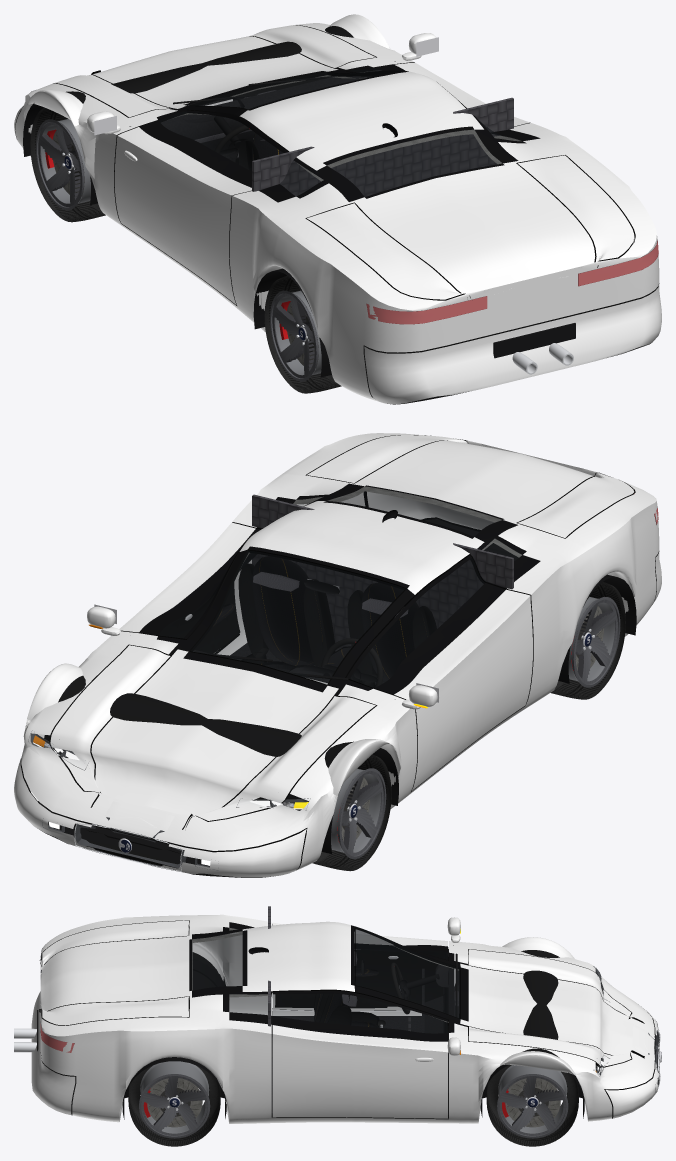
Rendered from supercar.glb.
3 renders of one model, top to bottom at view 1: azimuth 30°, elevation 25°; view 2: azimuth 150°, elevation 25°; view 3: azimuth 270°, elevation 25°, orthographic. The views are drawn at different scales.
Parts seen in each view (by area): view 1: chassis, door_lf_ok, bump_rear_ok, interior, boot_ok, wheel_lf, wheel_lb, bonnet_ok, windscreen_ok, door_rf_ok, steering_wheel; view 2: chassis, door_lf_ok, interior, windscreen_ok, bonnet_ok, door_rf_ok, bump_front_ok, boot_ok, wheel_lf, wheel_lb, bump_rear_ok, steering_wheel; view 3: chassis, door_rf_ok, wheel_rb, wheel_rf, door_lf_ok, windscreen_ok, boot_ok, interior, bonnet_ok, bump_rear_ok, bump_front_ok, steering_wheel.
Part boxes in pixels (<box>): chassis: <box>15,14,659,404</box>; door_lf_ok: <box>87,110,287,305</box>; bump_rear_ok: <box>364,283,661,404</box>; interior: <box>129,61,521,196</box>; boot_ok: <box>306,155,634,300</box>; wheel_lf: <box>30,107,105,222</box>; wheel_lb: <box>264,276,341,393</box>; bonnet_ok: <box>53,25,375,117</box>; windscreen_ok: <box>190,70,405,109</box>; door_rf_ok: <box>346,33,530,126</box>; steering_wheel: <box>214,116,250,164</box>; chassis: <box>21,433,659,877</box>; door_lf_ok: <box>346,555,532,790</box>; interior: <box>193,486,521,699</box>; windscreen_ok: <box>190,550,405,685</box>; bonnet_ok: <box>50,645,376,827</box>; door_rf_ok: <box>87,516,283,653</box>; bump_front_ok: <box>14,759,306,877</box>; boot_ok: <box>306,435,634,538</box>; wheel_lf: <box>312,754,391,871</box>; wheel_lb: <box>550,582,625,699</box>; bump_rear_ok: <box>366,491,661,604</box>; steering_wheel: <box>321,638,383,687</box>; chassis: <box>39,914,655,1123</box>; door_rf_ok: <box>272,990,460,1118</box>; wheel_rb: <box>128,1061,220,1146</box>; wheel_rf: <box>486,1064,578,1146</box>; door_lf_ok: <box>272,917,460,1010</box>; windscreen_ok: <box>354,926,459,1018</box>; boot_ok: <box>40,920,189,1025</box>; interior: <box>189,906,460,1115</box>; bonnet_ok: <box>468,949,644,1067</box>; bump_rear_ok: <box>14,991,75,1115</box>; bump_front_ok: <box>605,1004,661,1118</box>; steering_wheel: <box>390,962,439,1014</box>.
Size of the model in its own units: 2.3 by 1.19 by 4.85.
Materials: 50 (20 with a texture image).
